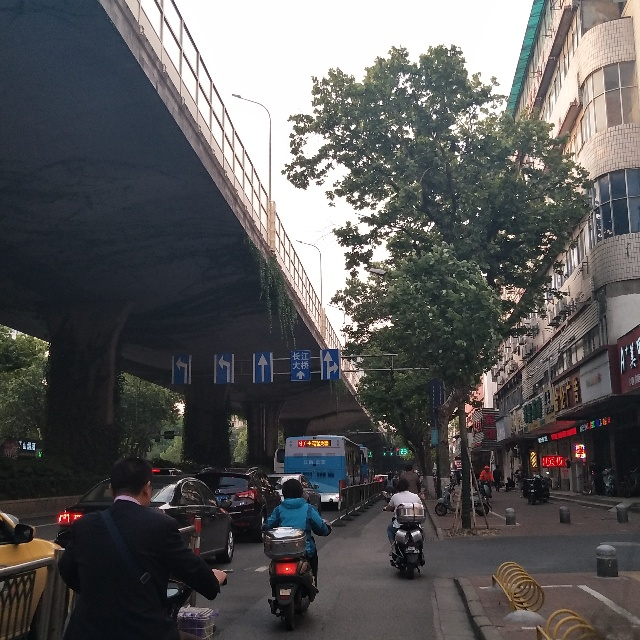left: (214, 353, 235, 384), (171, 355, 192, 385)
straight: (252, 352, 273, 383)
